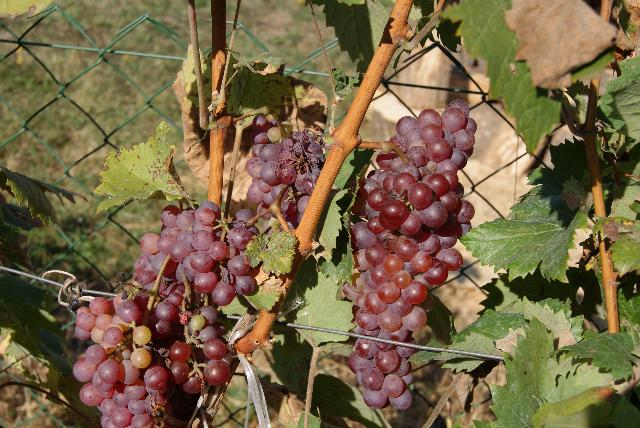grapes: (342, 100, 476, 410), (74, 292, 230, 428), (134, 201, 259, 306), (245, 116, 325, 216)
